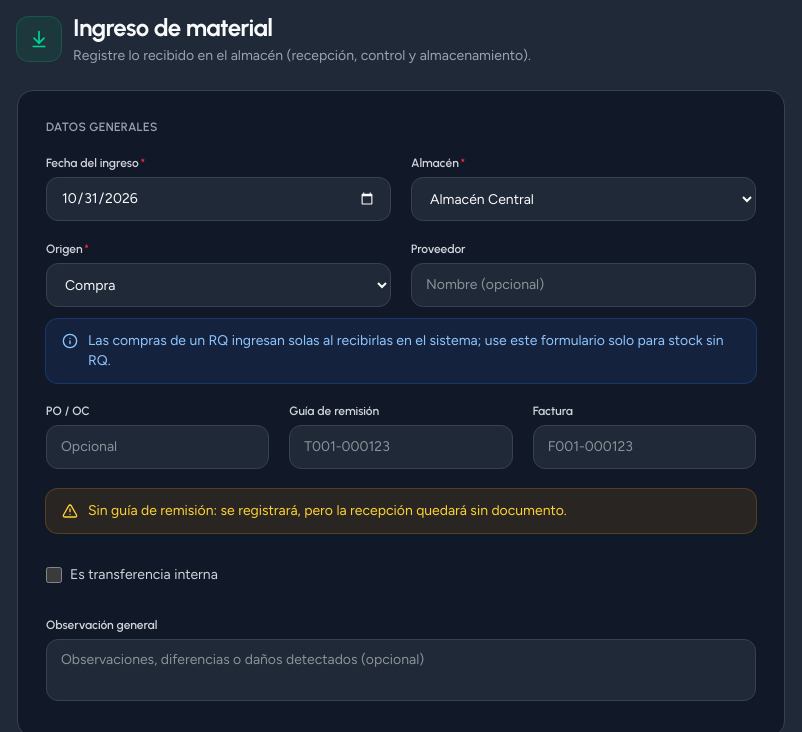
Test case: EntradaPage — aviso de las compras de un RQ › una transferencia interna no es una compra: el aviso desaparece y vuelve al desmarcarla
The width and height of the screenshot is (802, 732).
Click the checkbox labelled "Es transferencia interna".
click(54, 575)  # box [46,567,62,583]
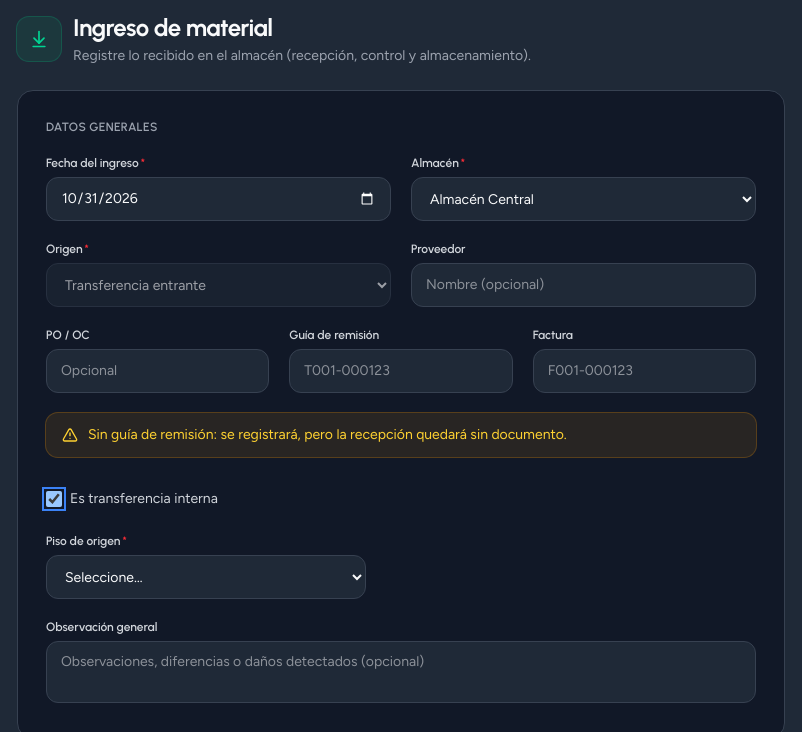
Expected: the text "Las compras de un RQ ingresan solas al recibirlas en el sistema; use este formulario solo para stock sin RQ." is gone
Click the checkbox labelled "Es transferencia interna".
click(54, 499)  # box [46,491,62,507]
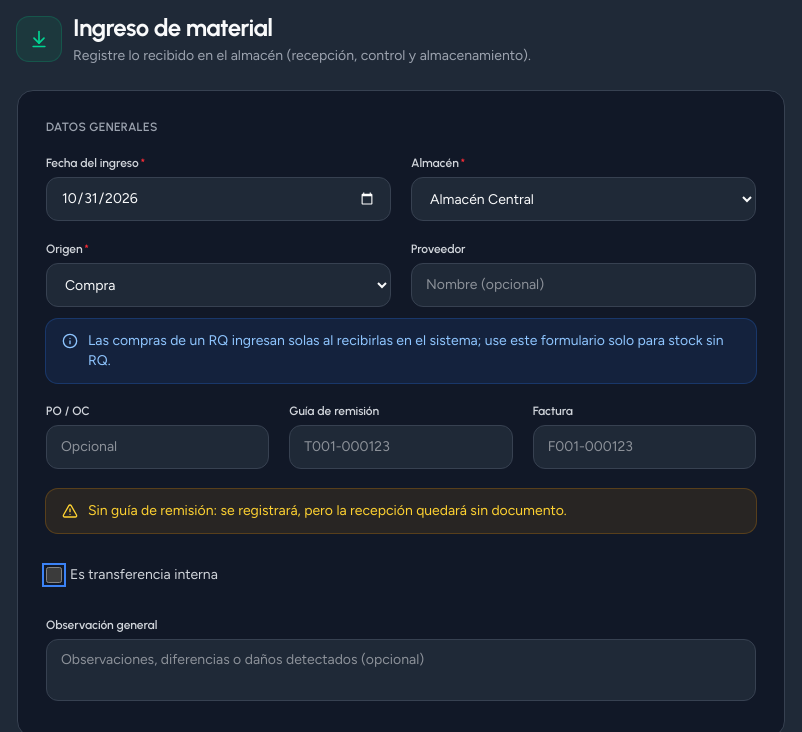
Expected: the text "Las compras de un RQ ingresan solas al recibirlas en el sistema; use este formulario solo para stock sin RQ." is shown, [88,332,724,369]
